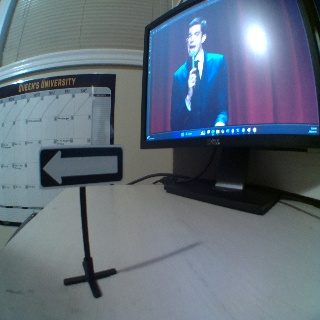sign_oneway_left: (38, 148, 123, 185)
